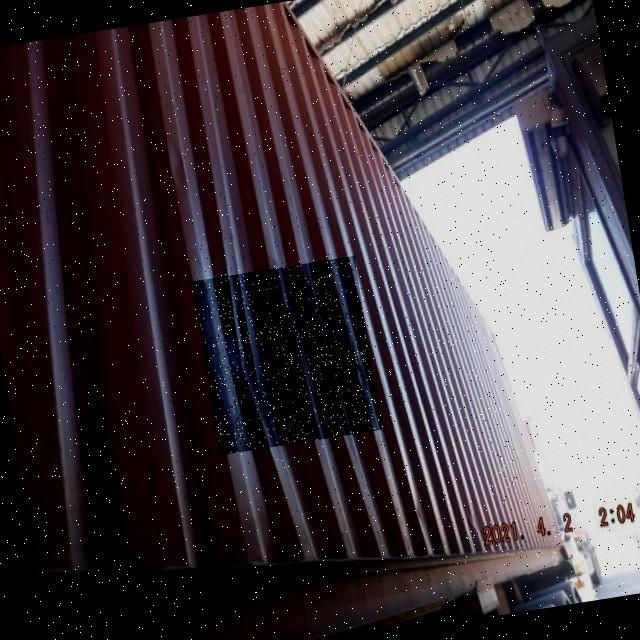Dent: (192, 257, 382, 456)
